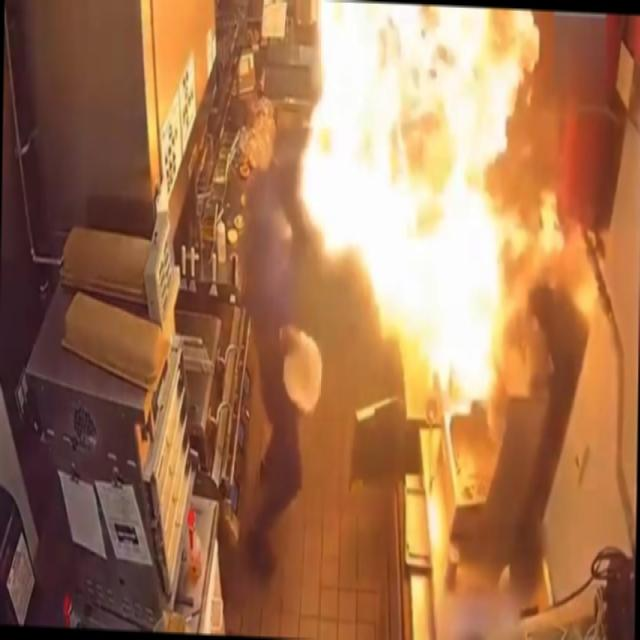fire: (295, 0, 568, 412)
